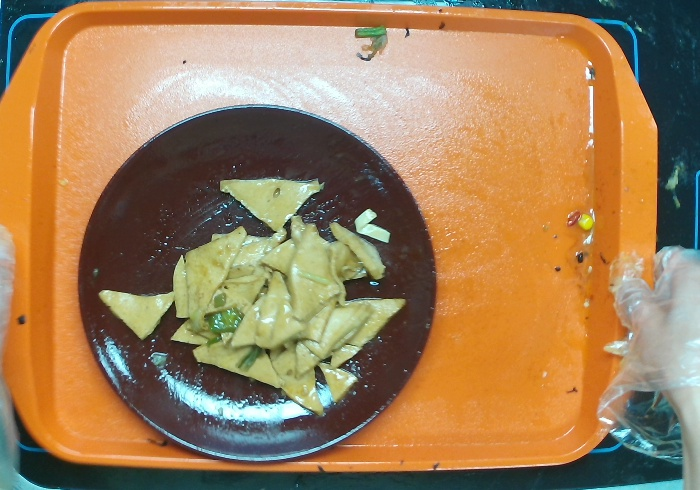HZYJPL-Ka_Fei_Yuan_Pan: (77, 102, 437, 466)
